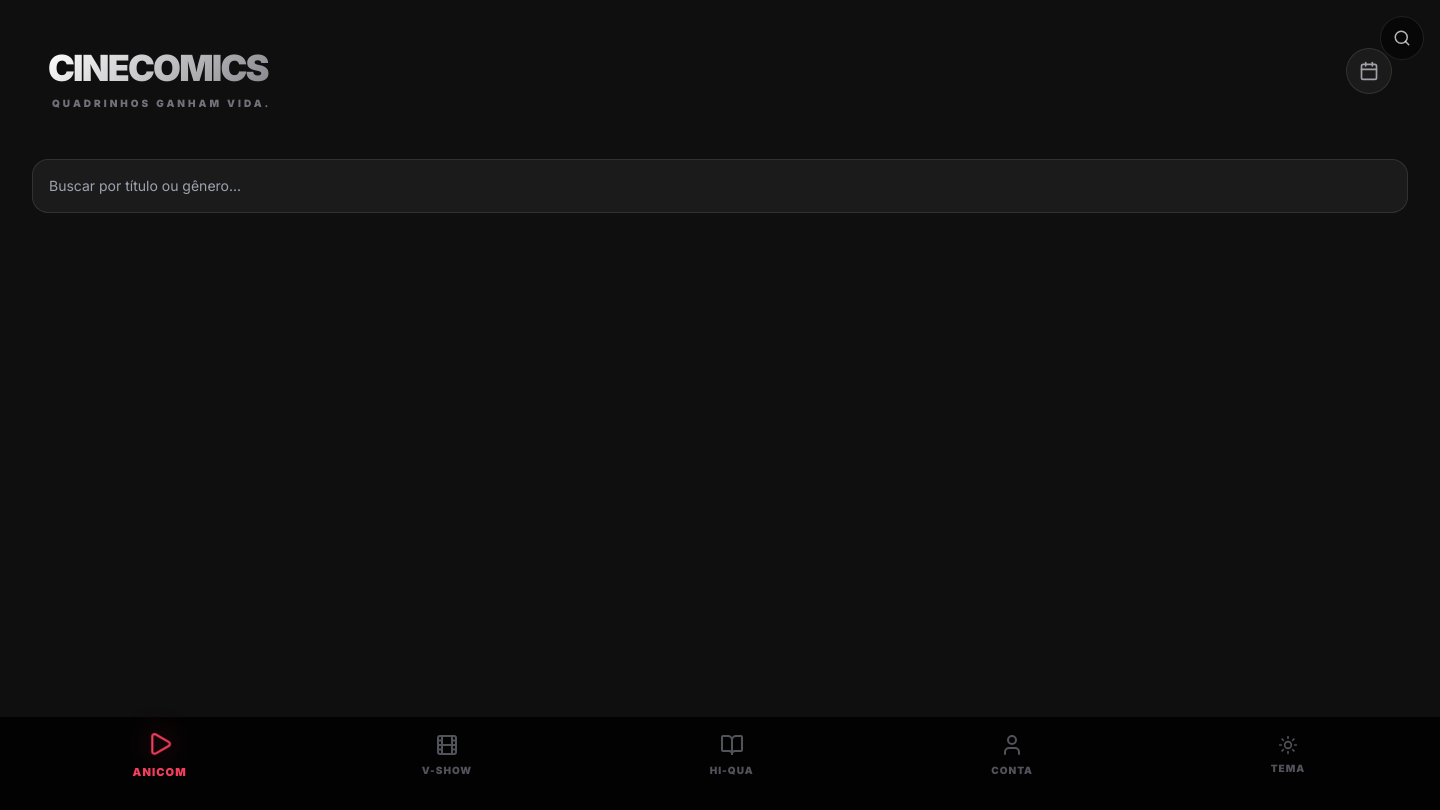
App — agradecimento do Super Reader só com conta (7966698) › visitante com ?superreader=success: entra no catálogo sem conta e o cartão NÃO aparece
expect the button named "Buscar" is shown: met, box x1=1380 y1=16 x2=1424 y2=60
Click the button "Conta". click: (1012, 756)
box: x1=991 y1=733 x2=1033 y2=778
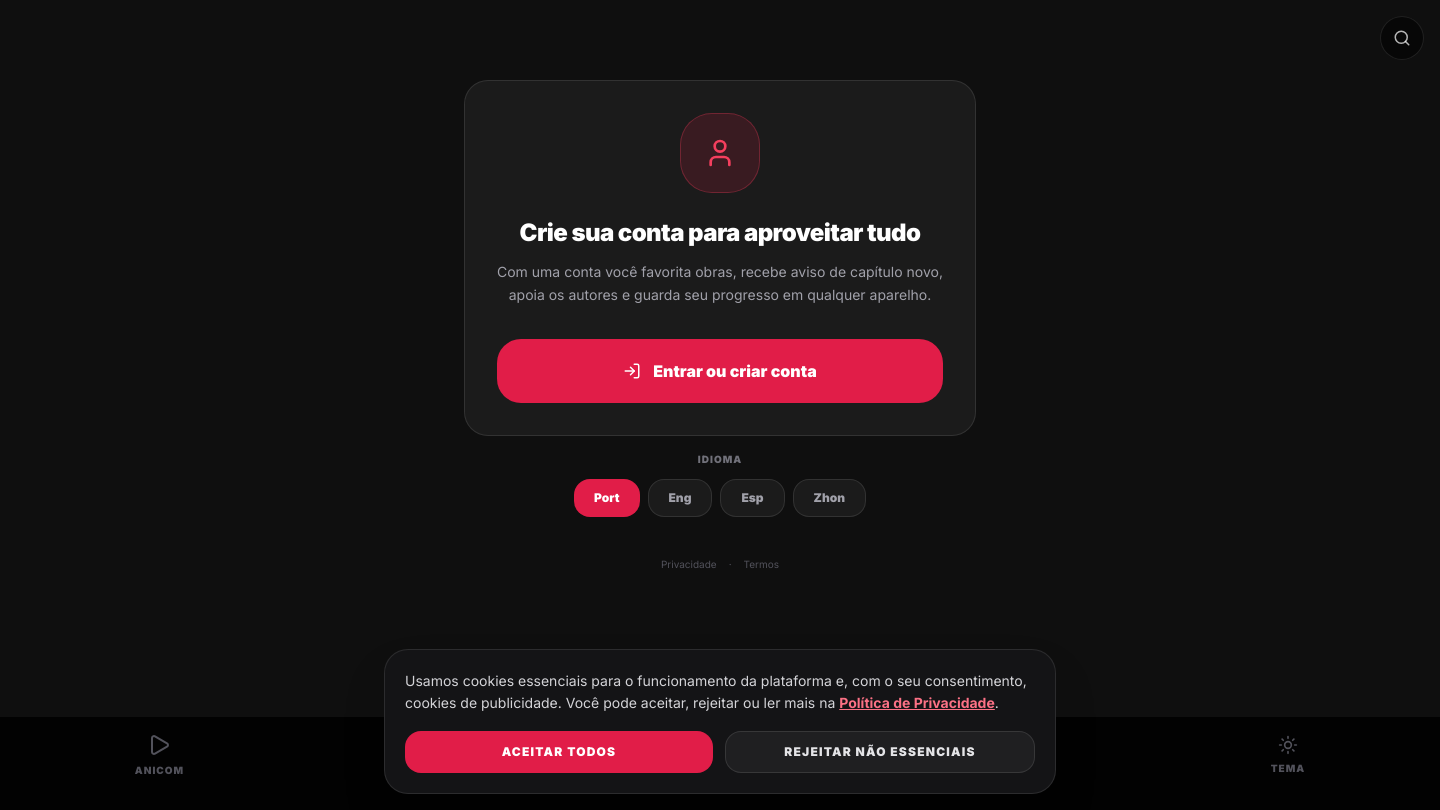
expect the heading "Crie sua conta para aproveitar tudo" is shown: met, box x1=497 y1=217 x2=943 y2=249
